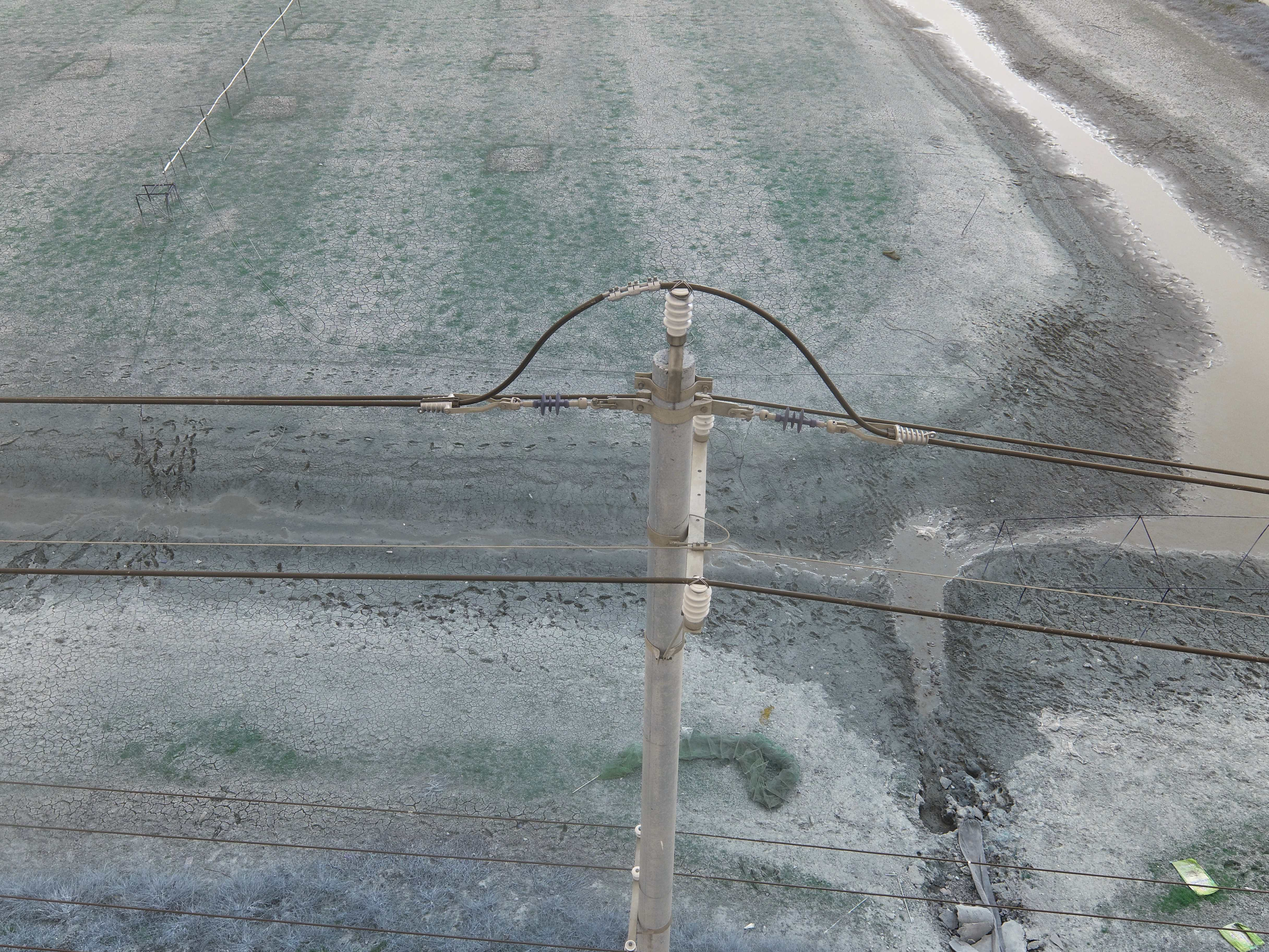severe_soiling_no_discharge_whole: (665, 290, 695, 306)
